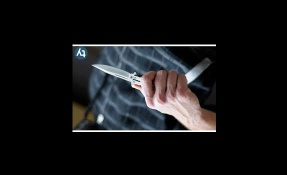k1: (89, 62, 141, 87)
